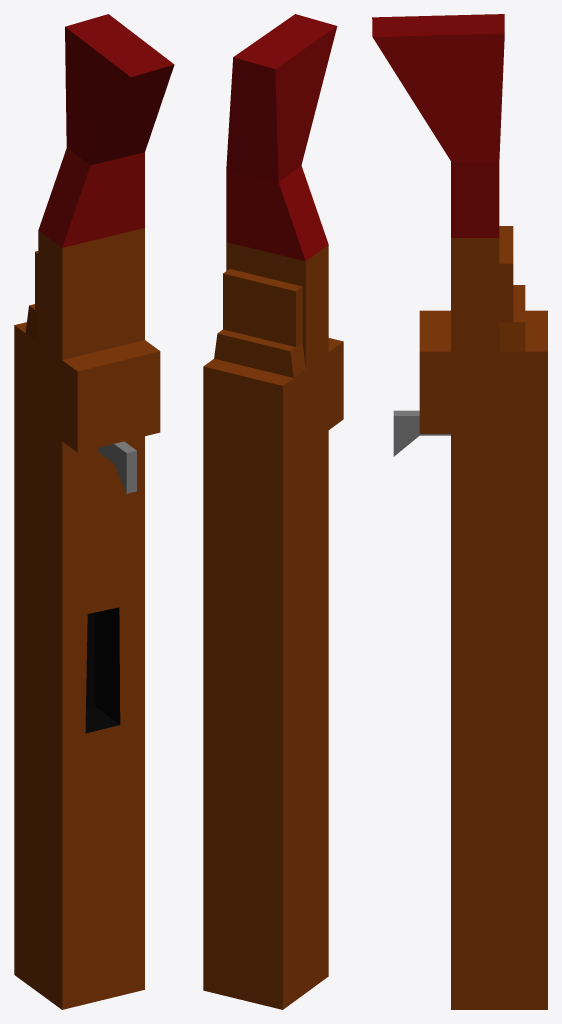
Rendered from Stock.obj.
3 renders of one model, left to right at view 1: azimuth 30°, elevation 25°; view 2: azimuth 150°, elevation 25°; view 3: azimuth 270°, elevation 25°, orthographic. The views are drawn at different scales.
Parts seen in each view (by area): view 1: Receiver_Cube.004; view 2: Receiver_Cube.004; view 3: Receiver_Cube.004.
Boxes of the visible parts, box(x1,y1,x2,y2) form: Receiver_Cube.004: box(14, 14, 174, 1009); Receiver_Cube.004: box(203, 14, 343, 1009); Receiver_Cube.004: box(372, 14, 547, 1009).
Bounding box in the file's own units: 0.4 × 4.43 × 0.7255.
